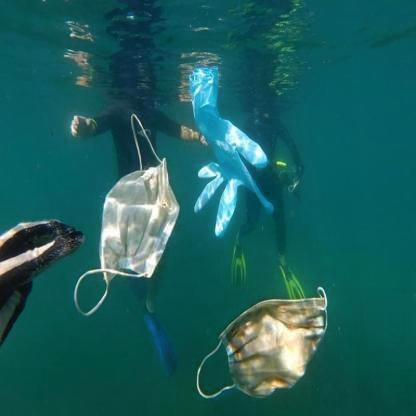Mask: (70, 112, 186, 320), (178, 283, 350, 408)
glove: (179, 58, 291, 244)
